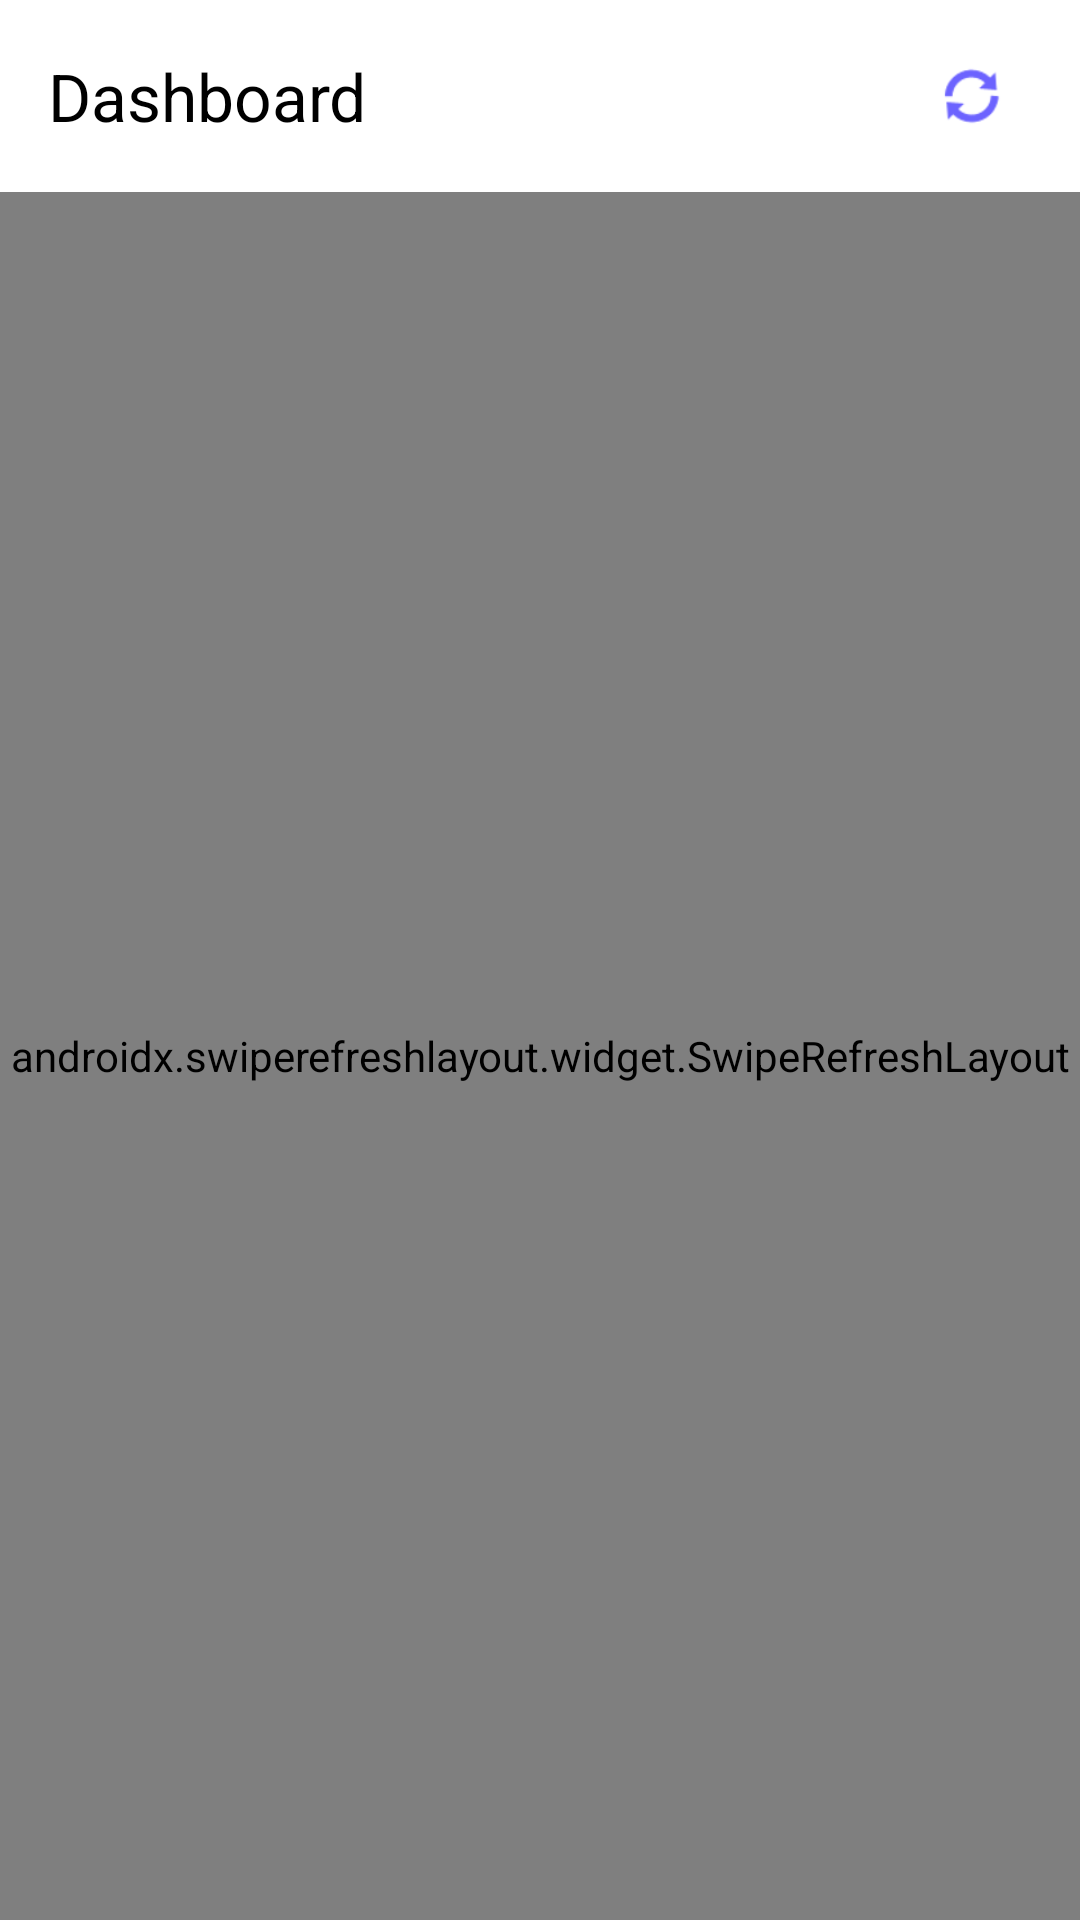

Icons on this 1080w x 1920h Android screen, each with its box as (x1, y1, x2, y2):
popup sync: (945, 69, 999, 123)
